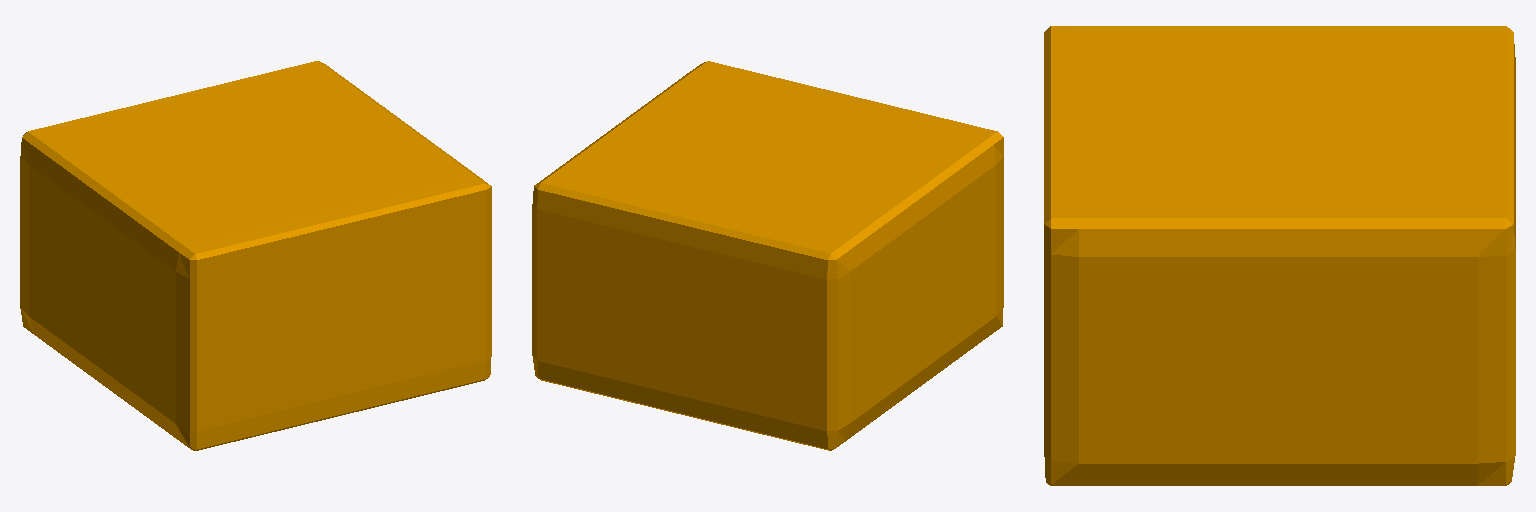
URDF robot description (cylinder_box_50):
<?xml version="1.0" encoding="utf-8"?>  <robot name="cylinder_box_50">   <link name="cylinder_box_50">     <visual>       <geometry>         <mesh filename="../meshes/box/box_50.stl" scale="1 1 1"/>       </geometry>     </visual>     <collision>       <geometry>         <mesh filename="../meshes/box/box_50.stl" scale="1 1 1"/>       </geometry>     </collision>     <inertial>        <origin         xyz="0 0 0"         rpy="0 0 0" />       <mass value="0.3652769045636717"/>       <origin rpy="0 0 0" xyz="0 0 0"/>       <inertia ixx="0.0002888248541456999" ixy="9.732417538238766e-09" ixz="4.145983122013485e-09" iyy="0.0003012532588336883" iyz="-5.131770159294504e-08" izz="0.00042663814901041974"/>     </inertial>   </link>  </robot>

--- Facts derived from the render (not from the file) ---
The picture shows the robot from 3 angles, left to right: view 1: azimuth 30°, elevation 25°; view 2: azimuth 150°, elevation 25°; view 3: azimuth 270°, elevation 25°; orthographic projection.
Model cylinder_box_50 with 1 links and 0 joints (none), rooted at cylinder_box_50, posed every joint at zero.
Visible links, largest first — view 1: cylinder_box_50; view 2: cylinder_box_50; view 3: cylinder_box_50.
Link boxes in pixels (x1,y1,x2,y2): cylinder_box_50: (20,61,491,450); cylinder_box_50: (532,61,1003,450); cylinder_box_50: (1044,26,1515,485).
Size in the robot's own frame: 0.0855 by 0.0828 by 0.0521 metres.
1 mesh visuals loaded from 1 distinct referenced files (1 binary STL).